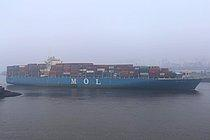Ship: (5, 52, 207, 99)
